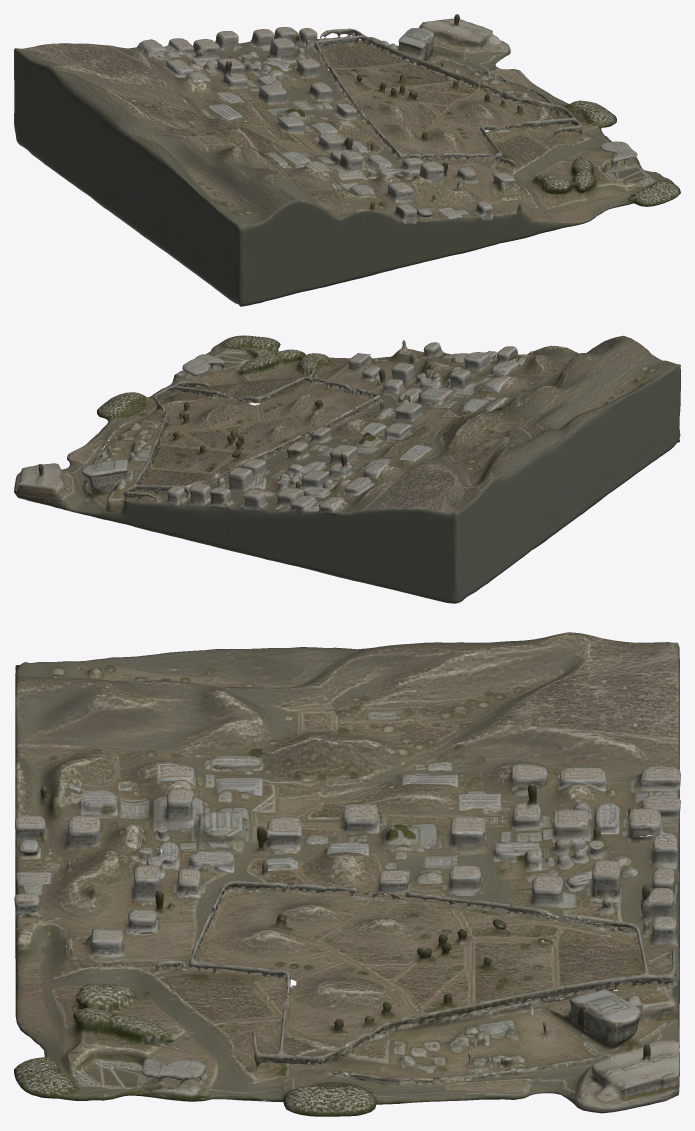
The model's file is badr-battle-site.glb.
The picture shows the model from 3 angles, top to bottom: view 1: azimuth 30°, elevation 25°; view 2: azimuth 150°, elevation 25°; view 3: azimuth 270°, elevation 25°; orthographic projection. The views are drawn at different scales.
Visible parts, largest first — view 1: tripo_node_61f7cf88; view 2: tripo_node_61f7cf88; view 3: tripo_node_61f7cf88.
Part boxes in pixels (x1=…): tripo_node_61f7cf88: x1=14, y1=14, x2=680, y2=306; tripo_node_61f7cf88: x1=14, y1=335, x2=680, y2=603; tripo_node_61f7cf88: x1=14, y1=632, x2=680, y2=1116.
Bounding box in the file's own units: 97.5 × 20.15 × 80.85.
1 material, 1 textured.
